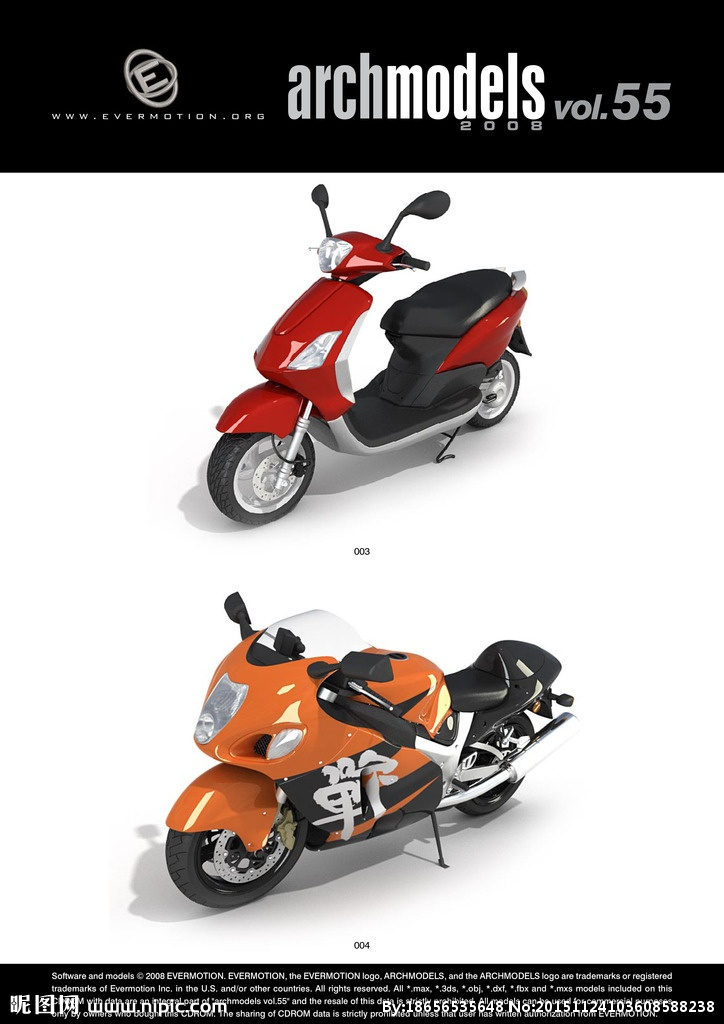non-vehicle: (167, 603, 572, 914), (210, 225, 533, 532)
